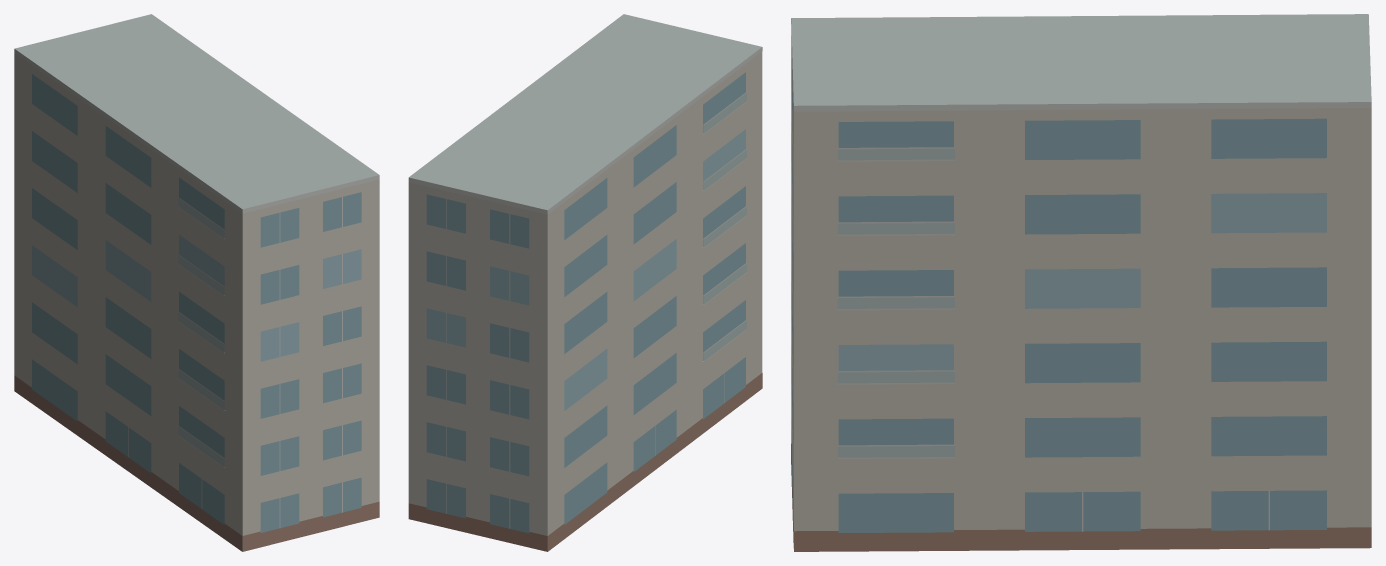
Rendered from survey-upis-32996995.glb.
The picture shows the model from 3 angles, left to right: view 1: azimuth 30°, elevation 25°; view 2: azimuth 150°, elevation 25°; view 3: azimuth 270°, elevation 25°; orthographic projection. The views are drawn at different scales.
Parts seen in each view (by area): view 1: survey-upis-32996995.tmp; view 2: survey-upis-32996995.tmp; view 3: survey-upis-32996995.tmp.
Part boxes in pixels (left/top/right/bottom): survey-upis-32996995.tmp: left=14, top=14, right=379, bottom=551; survey-upis-32996995.tmp: left=408, top=14, right=762, bottom=551; survey-upis-32996995.tmp: left=791, top=14, right=1371, bottom=551.
Bounding box in the file's own units: 8.27 × 18.7 × 22.06.
